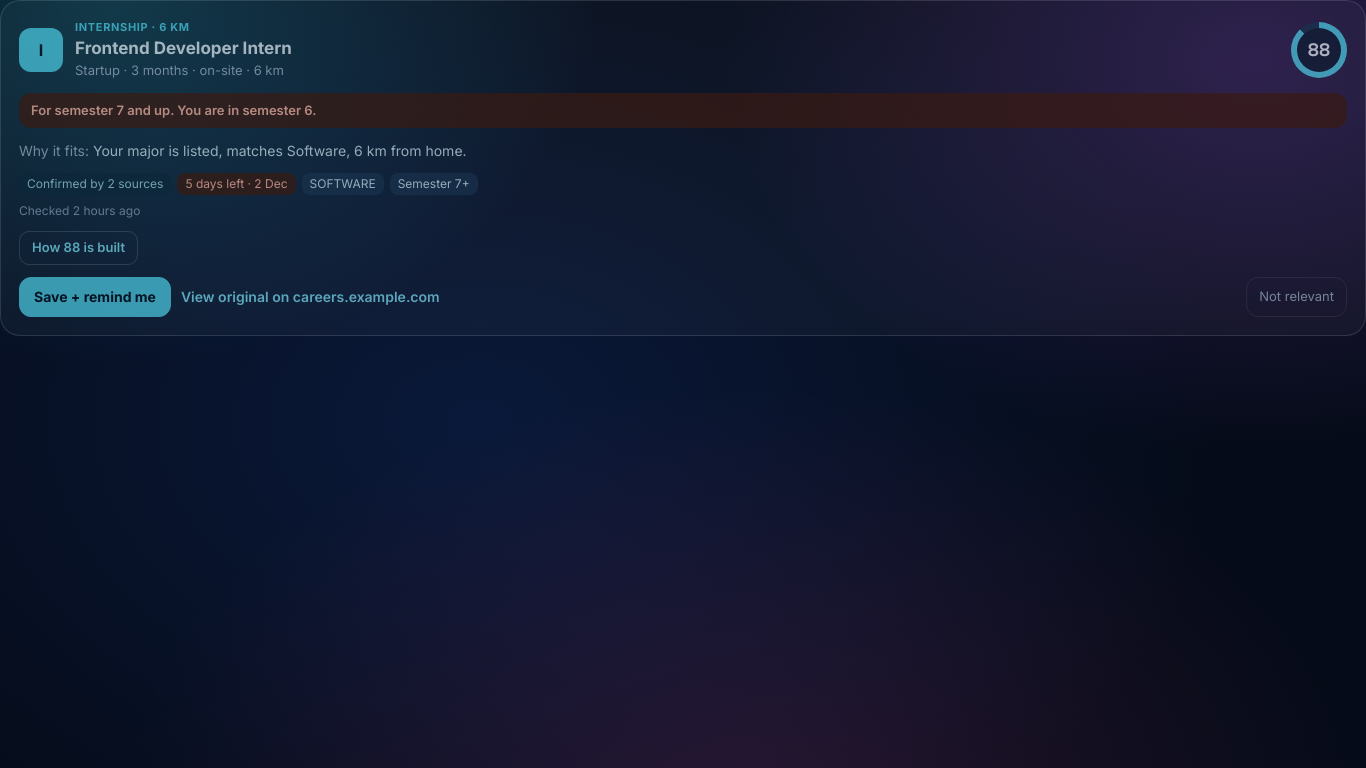
it: OpportunityCard › opens the five-part breakdown with points from fit_parts
Step 1. Click the button "How 88 is built" → [78, 248], box [19,231,138,265]
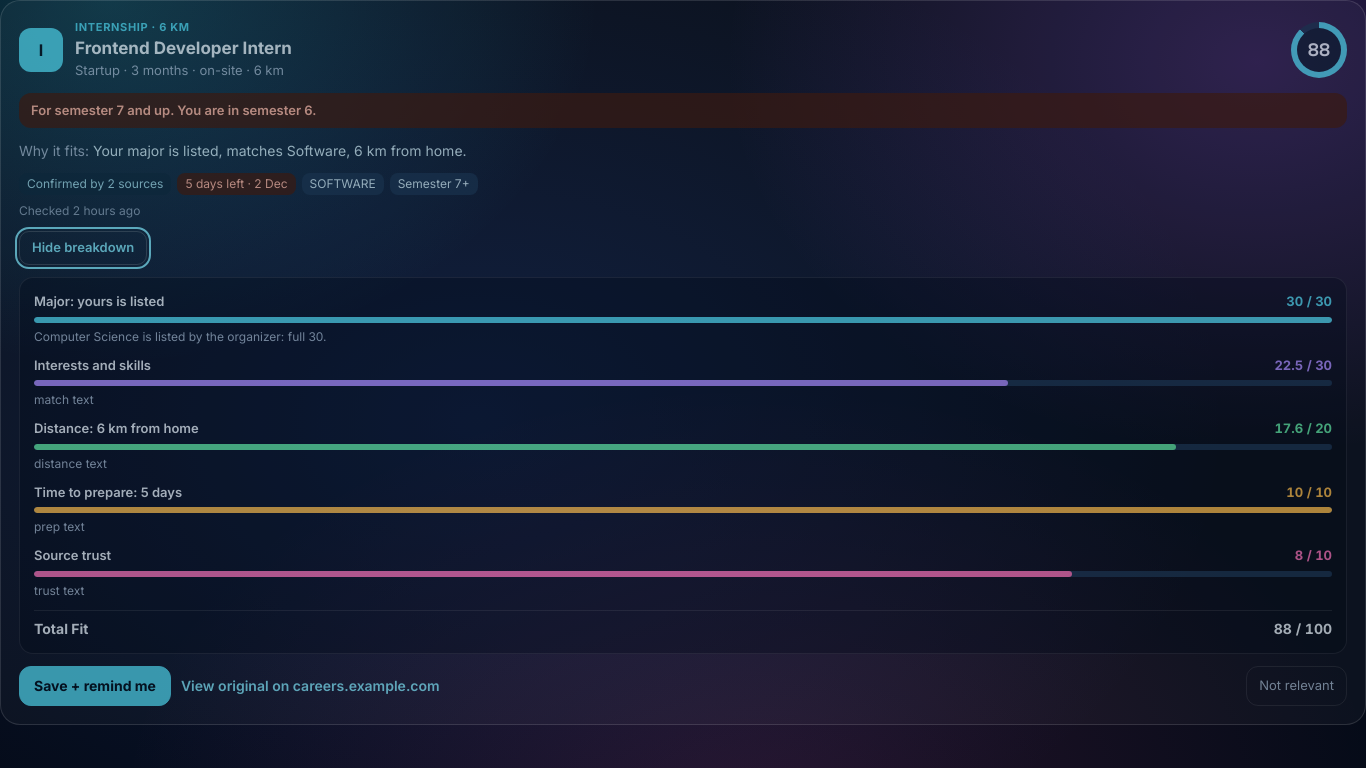
Check: the button named "How 88 is built" is expanded, box [19,231,147,265]
Check: the text "22.5 / 30" is shown, box [1274,356,1332,375]
Check: the text "17.6 / 20" is shown, box [1274,419,1332,438]
